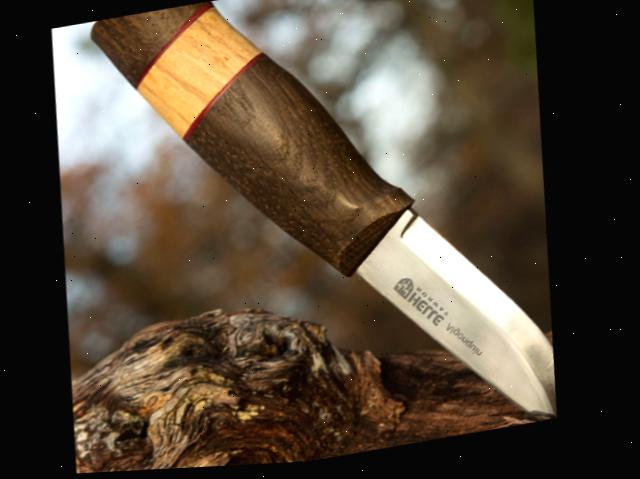pocket-knife: (54, 0, 586, 476)
